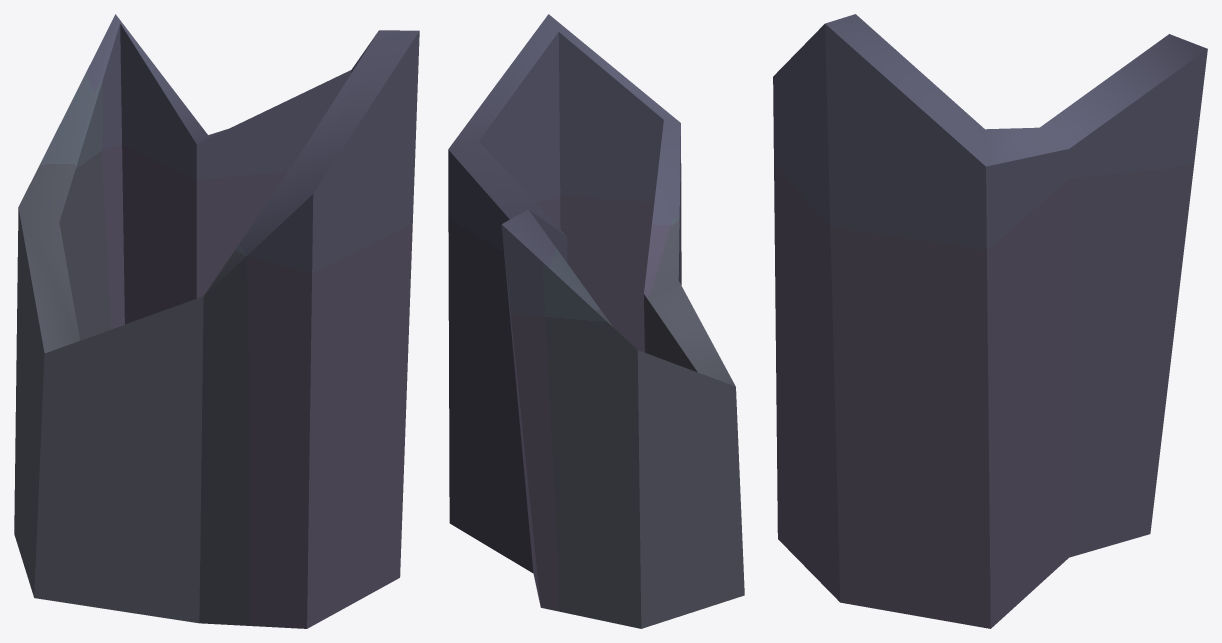
File: SS_Log3.fbx
The picture shows the model from 3 angles, left to right: view 1: azimuth 30°, elevation 25°; view 2: azimuth 150°, elevation 25°; view 3: azimuth 270°, elevation 25°; orthographic projection. The views are drawn at different scales.
Parts seen in each view (by area): view 1: Log3; view 2: Log3; view 3: Log3.
Boxes of the visible parts, bbox=[...] form: Log3: bbox=[14, 14, 419, 628]; Log3: bbox=[448, 14, 744, 628]; Log3: bbox=[773, 14, 1207, 628].
Bounding box in the file's own units: 1.56 × 2.46 × 1.58.
